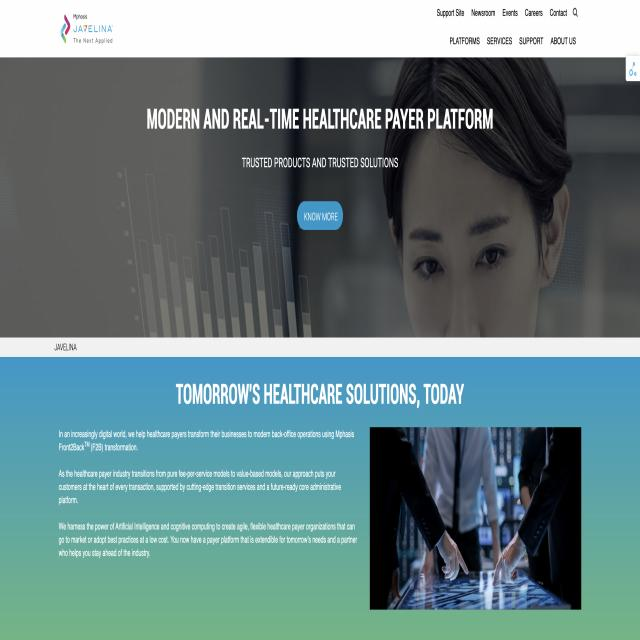Logo: (53, 2, 125, 54)
Navigation: (434, 20, 595, 51)
